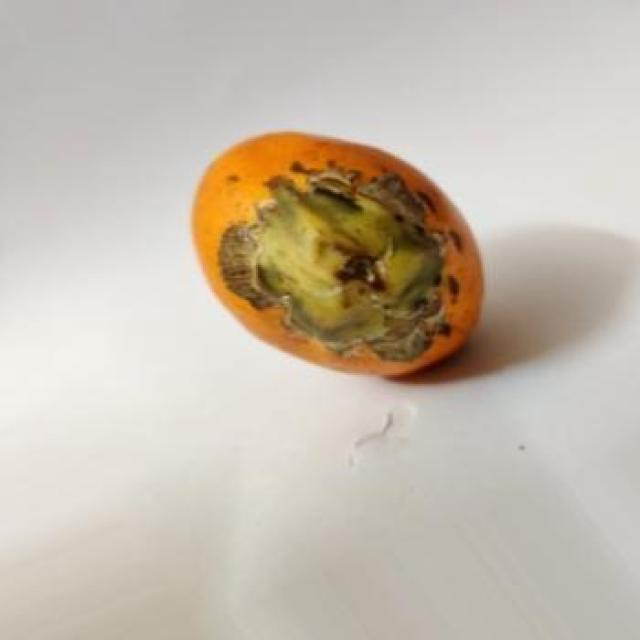good: (192, 133, 485, 380)
